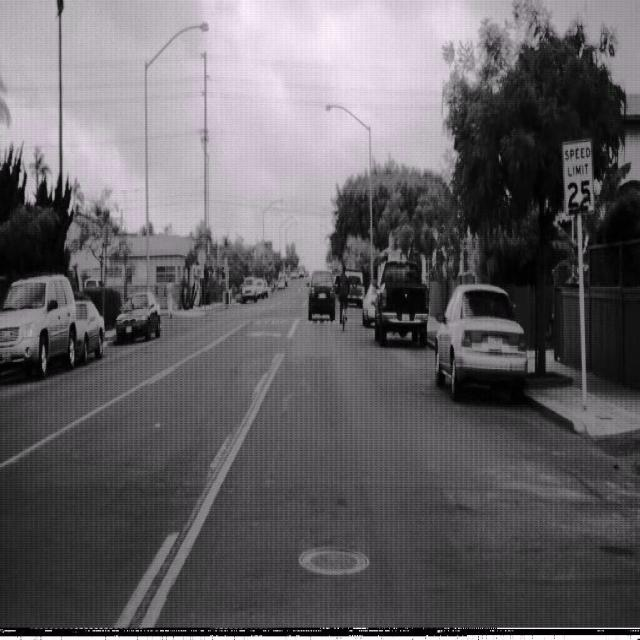speedLimit25: (561, 136, 595, 215)
